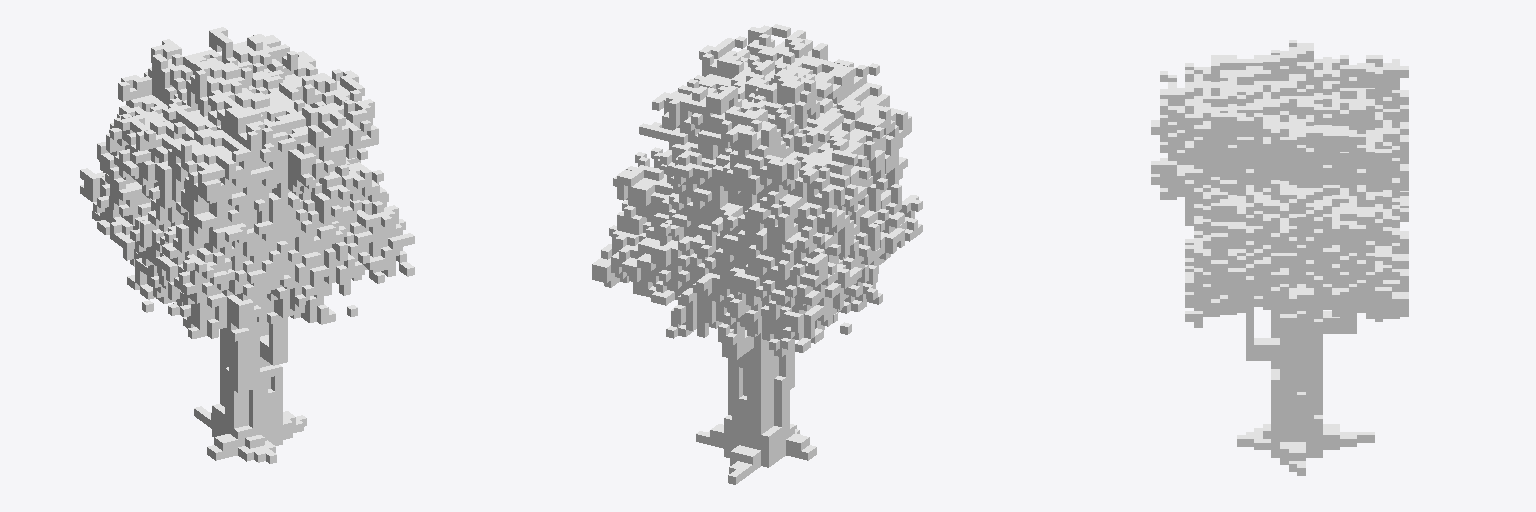
File: Hospital-35.obj
3 views of the same model, side by side, from view 1: azimuth 30°, elevation 25°; view 2: azimuth 150°, elevation 25°; view 3: azimuth 270°, elevation 25° (orthographic).
Parts seen in each view (by area): view 1: object 1; view 2: object 1; view 3: object 1.
Boxes of the visible parts, box(x1,y1,x2,y2) form: object 1: box(80, 27, 414, 463); object 1: box(592, 24, 922, 484); object 1: box(1151, 40, 1408, 475).
Size of the model in its own units: 3 by 4.9 by 3.